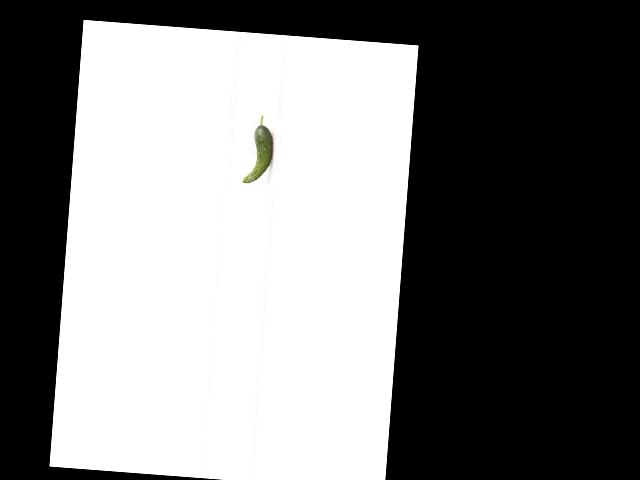cucumber: (242, 114, 275, 184)
